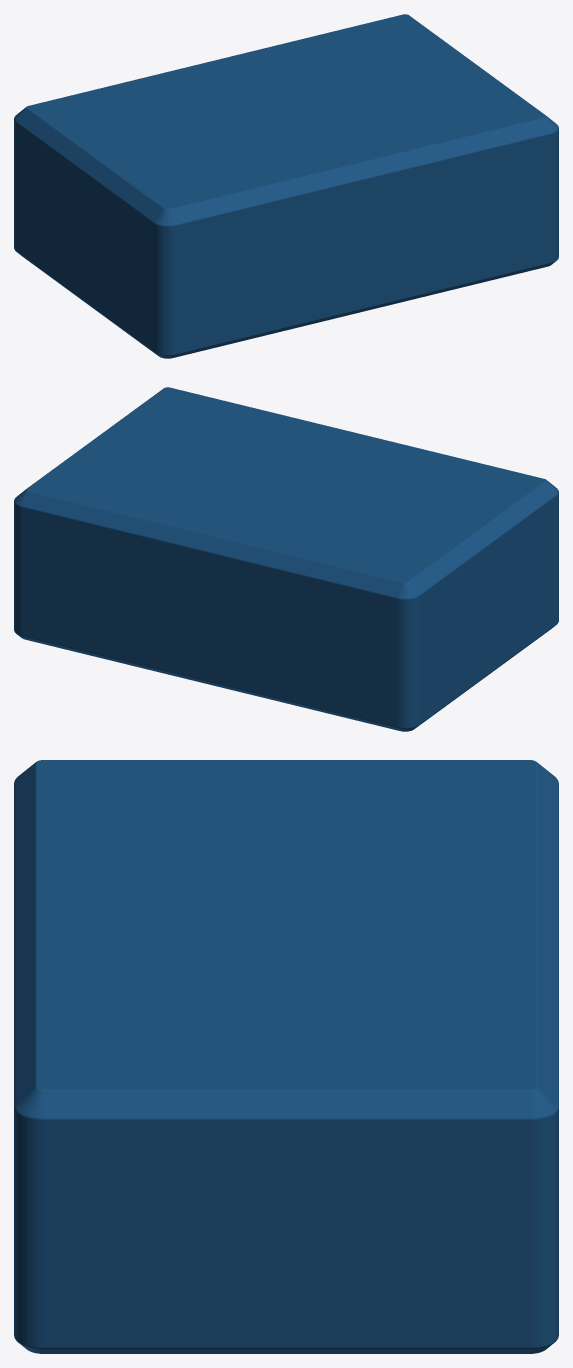
3 renders of one model, top to bottom at view 1: azimuth 30°, elevation 25°; view 2: azimuth 150°, elevation 25°; view 3: azimuth 270°, elevation 25°, orthographic. The views are drawn at different scales.
Visible parts, largest first — view 1: Foam body; view 2: Foam body; view 3: Foam body.
Boxes of the visible parts, left/top/right/bottom form: Foam body: left=14, top=14, right=558, bottom=358; Foam body: left=14, top=387, right=558, bottom=731; Foam body: left=14, top=760, right=558, bottom=1353.
Bounding box in the file's own units: 0.224 × 0.078 × 0.148.
